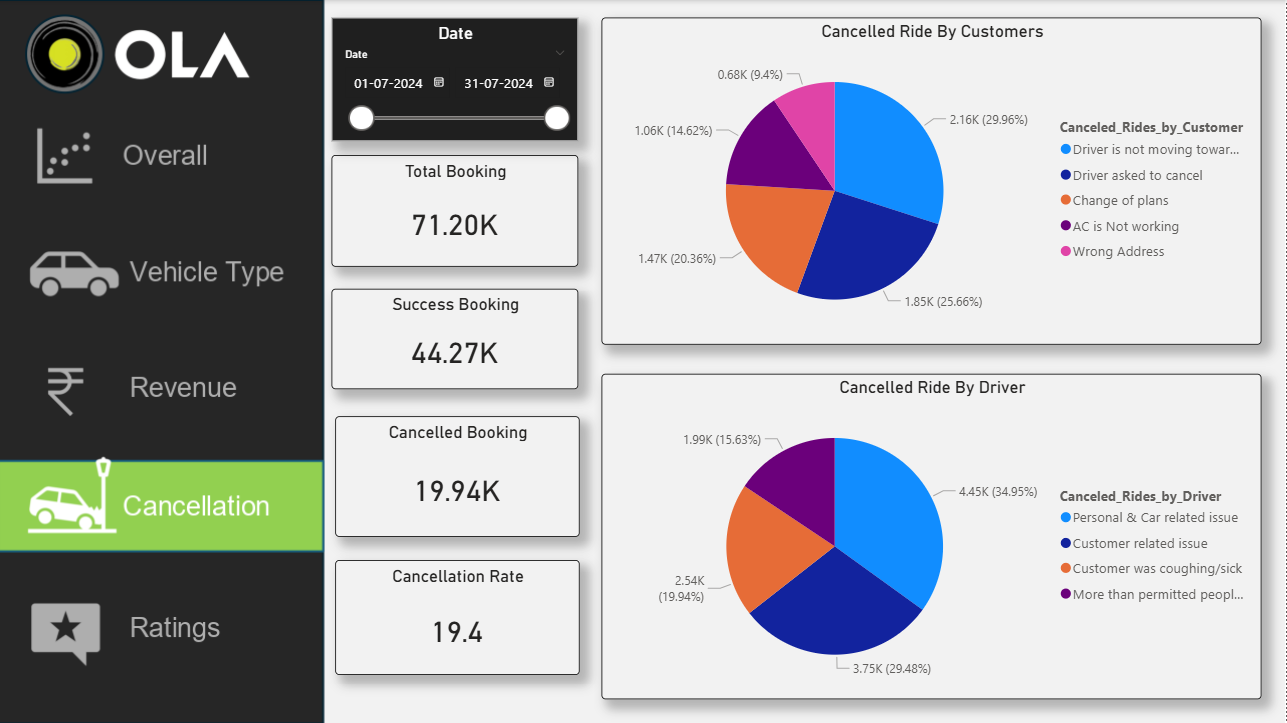

This screenshot's page, from the dashboard's own definition file:
{"tool":"powerbi","page":{"name":"cancellation","canvas":[1280,720],"ordinal":3},"visuals":[{"type":"image","box":[0,0,1280,720.3],"z":0},{"type":"actionButton","box":[0,220.9,322.7,90.8],"z":1000},{"type":"actionButton","box":[0,342.1,322.2,90.8],"z":2000},{"type":"actionButton","box":[0,592.1,322.2,79.6],"z":3000},{"type":"actionButton","box":[0,115.7,322.2,78.4],"z":4000},{"type":"pieChart","title":"Cancelled Ride By Customers","fields":{"Category":["July.Canceled_Rides_by_Customer"],"Y":["CountNonNull(July.Canceled_Rides_by_Customer)"]},"box":[600,17.1,657.1,325.7],"z":5000},{"type":"pieChart","title":"Cancelled Ride By Driver","fields":{"Category":["July.Canceled_Rides_by_Driver"],"Y":["CountNonNull(July.Canceled_Rides_by_Driver)"]},"box":[600,371.4,657.1,324.3],"z":6000},{"type":"slicer","title":"Date","fields":{"Values":["July.Date"]},"box":[331.4,17.1,245.7,122.9],"z":7000},{"type":"card","title":"Total Booking","fields":{"Values":["Count(July.Booking_ID)"]},"box":[331.4,154.3,245.7,111.4],"z":8000},{"type":"card","title":"Success Booking","fields":{"Values":["Count(July.Booking_ID)"]},"box":[331.4,287.1,245.7,100],"z":9000},{"type":"card","title":"Cancelled Booking","fields":{"Values":["Count(July.Booking_ID)"]},"box":[334.3,414.3,242.9,120],"z":10000},{"type":"card","title":"Cancellation Rate","fields":{"Values":["July.CanceledPercentage"]},"box":[334.3,557.1,242.9,114.3],"z":11000}]}

Visuals, with their boxes in screenshot pixels (x1, y1, x2, y2), scaled from the page's 1280x720 canvas onto the 1287x723 screenshot:
image: 0 0 1286 722
actionButton: 0 222 324 313
actionButton: 0 344 324 435
actionButton: 0 595 324 674
actionButton: 0 116 324 195
"Cancelled Ride By Customers" pieChart: 603 17 1264 344
"Cancelled Ride By Driver" pieChart: 603 373 1264 699
"Date" slicer: 333 17 580 141
"Total Booking" card: 333 155 580 267
"Success Booking" card: 333 288 580 389
"Cancelled Booking" card: 336 416 580 537
"Cancellation Rate" card: 336 559 580 674
